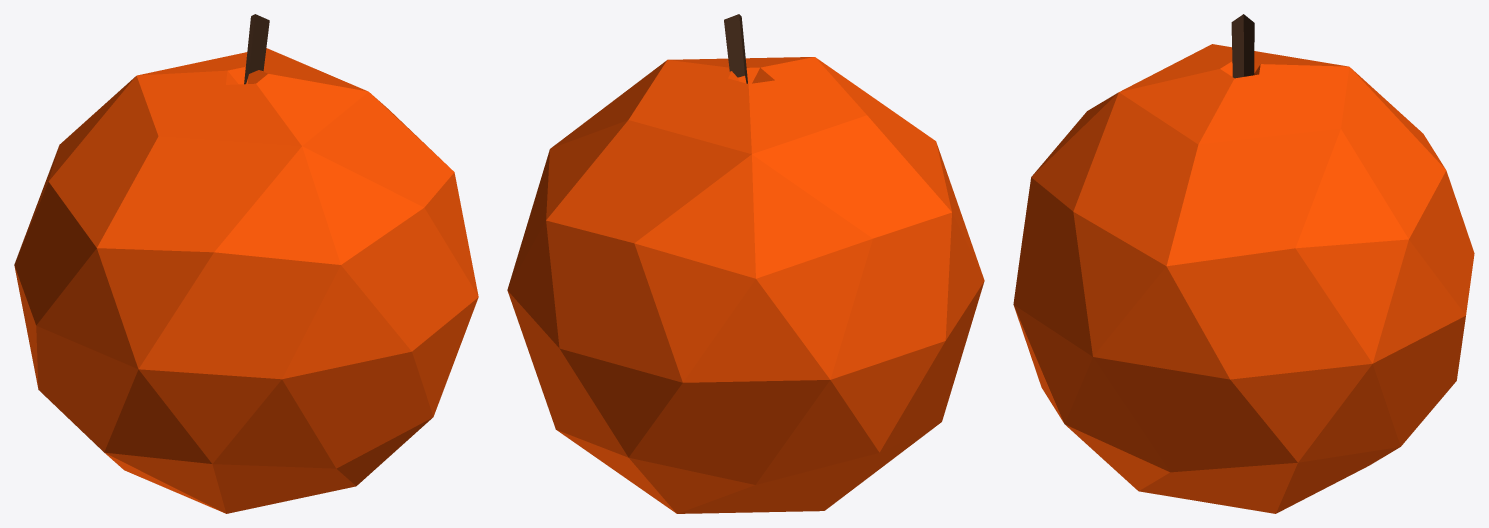
File: orange.fbx
3 renders of one model, left to right at view 1: azimuth 30°, elevation 25°; view 2: azimuth 150°, elevation 25°; view 3: azimuth 270°, elevation 25°, orthographic.
Parts seen in each view (by area): view 1: Icosphere; view 2: Icosphere; view 3: Icosphere.
Boxes of the visible parts, bbox=[...] form: Icosphere: bbox=[14, 14, 478, 513]; Icosphere: bbox=[507, 14, 984, 513]; Icosphere: bbox=[1013, 14, 1474, 513].
Size of the model in its own units: 128 by 144 by 124.
